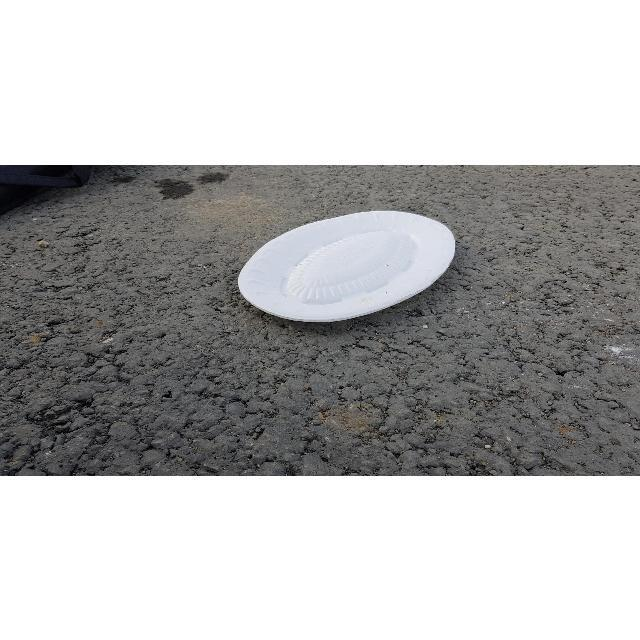Recipiente plastico: (238, 212, 454, 322)
